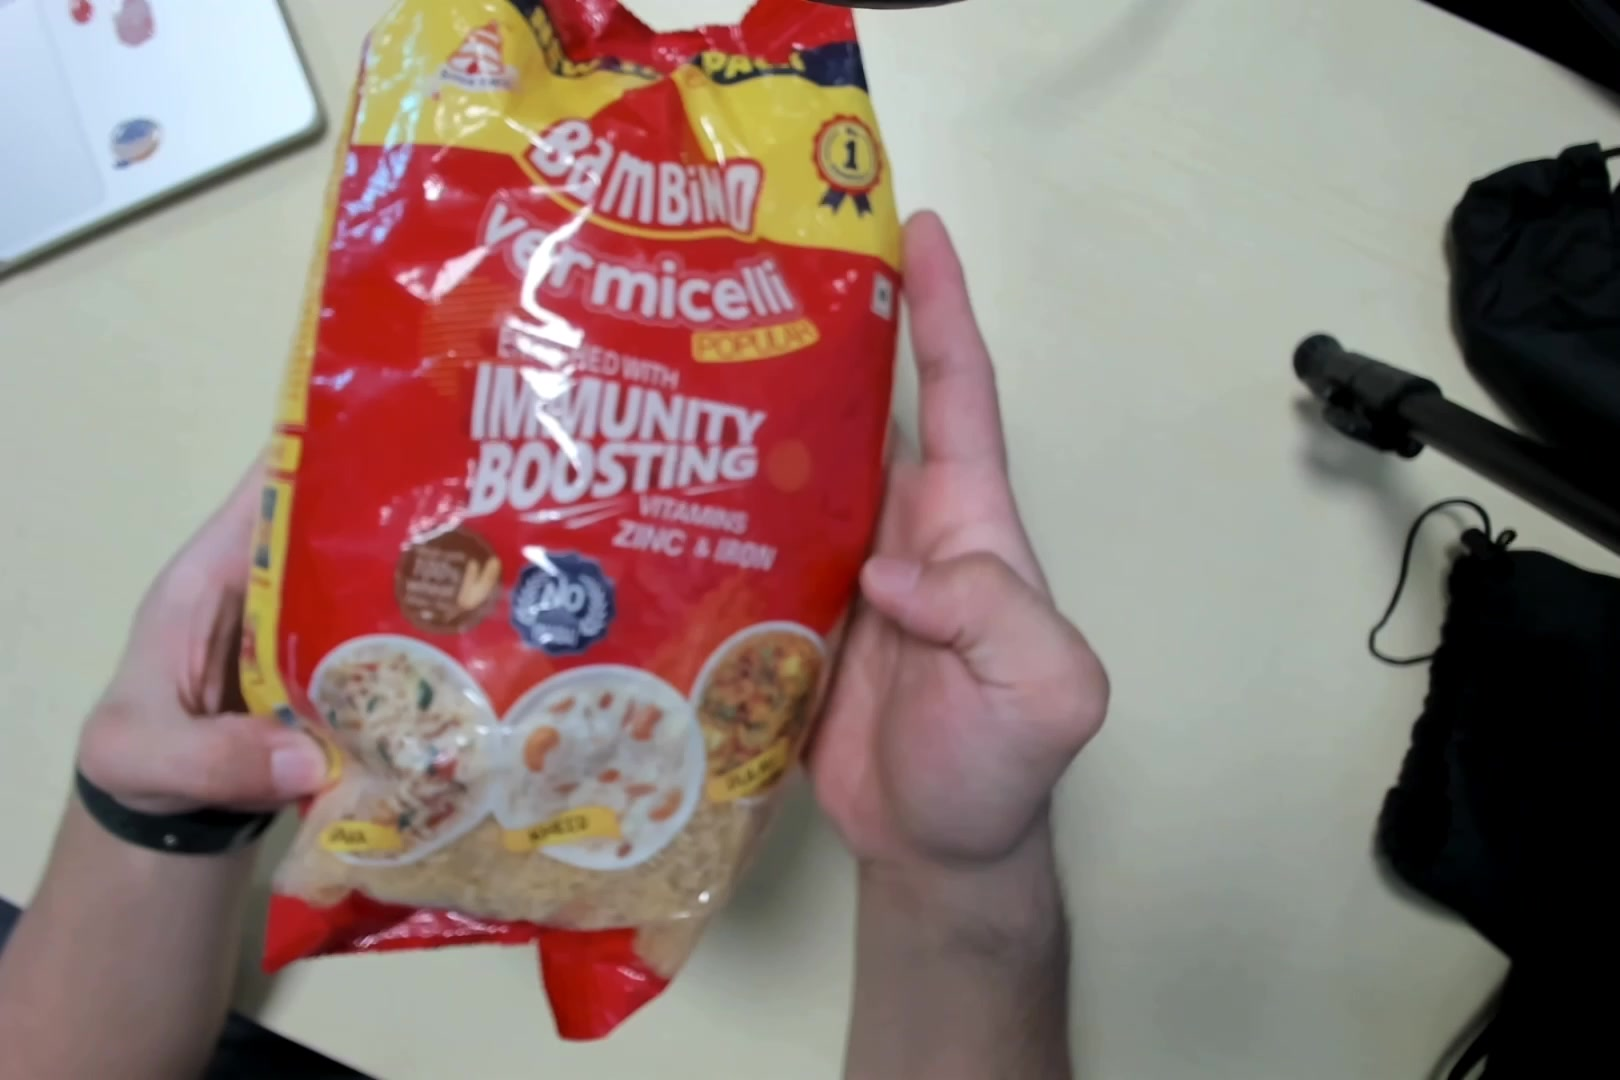OtherNoodles_300-399g_Halal_NonHealthy: (272, 4, 906, 1015)
